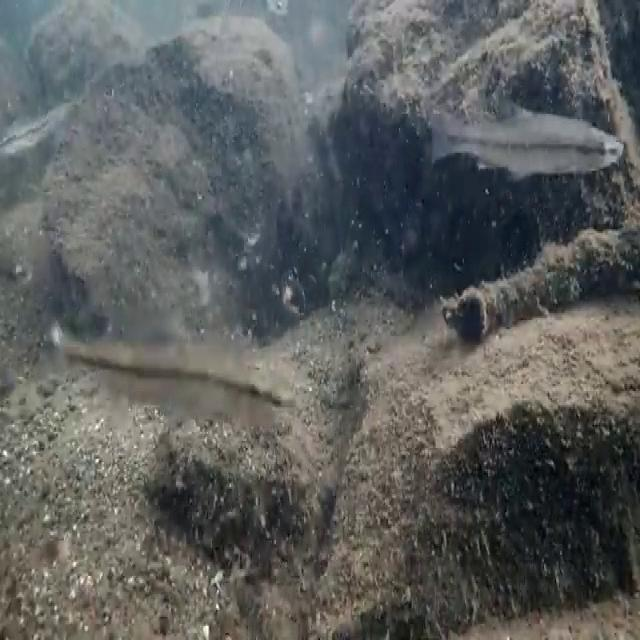Cakil Baligi: (50, 296, 306, 448), (420, 63, 624, 193)
